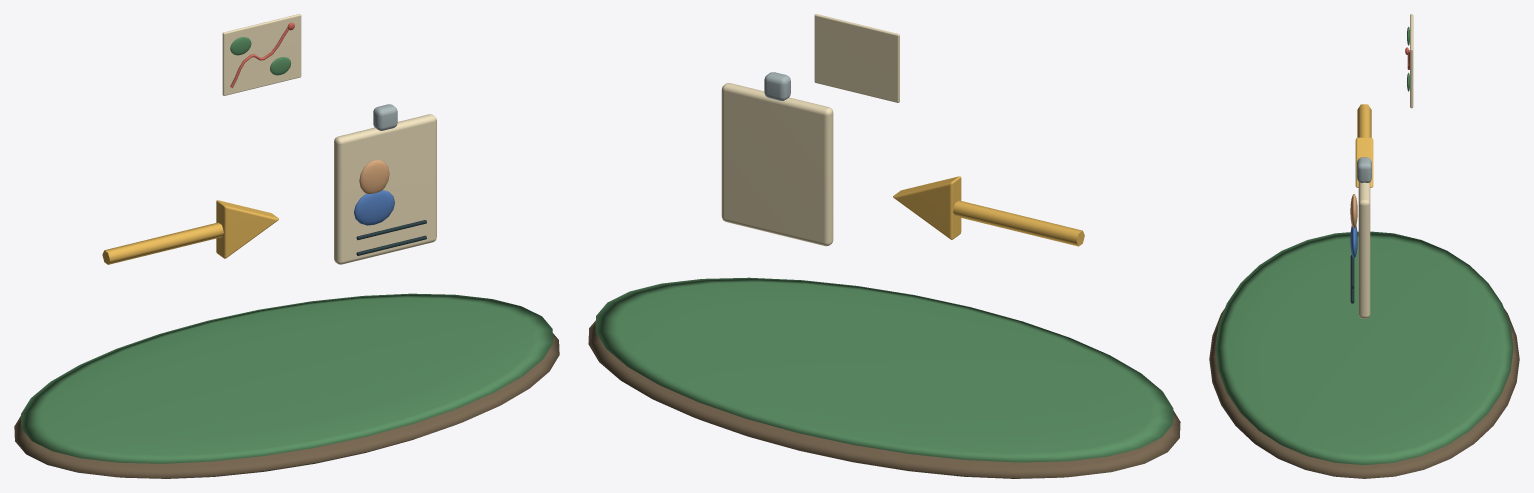
Rendered from complete-third-approach-from-self.glb.
3 views of the same model, side by side, from view 1: azimuth 30°, elevation 25°; view 2: azimuth 150°, elevation 25°; view 3: azimuth 270°, elevation 25° (orthographic). The views are drawn at different scales.
Visible parts, largest first — view 1: complete-third-approach-from-self_surface_01, complete-third-approach-from-self_surface_03, complete-third-approach-from-self_surface_00, complete-third-approach-from-self_surface_02, complete-third-approach-from-self_surface_06, complete-third-approach-from-self_surface_05, complete-third-approach-from-self_surface_07, complete-third-approach-from-self_surface_04; view 2: complete-third-approach-from-self_surface_01, complete-third-approach-from-self_surface_03, complete-third-approach-from-self_surface_00, complete-third-approach-from-self_surface_02, complete-third-approach-from-self_surface_04; view 3: complete-third-approach-from-self_surface_01, complete-third-approach-from-self_surface_00, complete-third-approach-from-self_surface_03, complete-third-approach-from-self_surface_02, complete-third-approach-from-self_surface_04.
Boxes of the visible parts, x1,y1,x2,y2 form: complete-third-approach-from-self_surface_01: (21,37,552,463); complete-third-approach-from-self_surface_03: (222,14,436,264); complete-third-approach-from-self_surface_00: (14,333,559,478); complete-third-approach-from-self_surface_02: (102,200,278,264); complete-third-approach-from-self_surface_06: (354,190,394,225); complete-third-approach-from-self_surface_05: (359,160,389,193); complete-third-approach-from-self_surface_07: (356,220,426,255); complete-third-approach-from-self_surface_04: (373,104,397,130); complete-third-approach-from-self_surface_01: (595,277,1173,462); complete-third-approach-from-self_surface_03: (721,14,899,246); complete-third-approach-from-self_surface_00: (588,320,1180,478); complete-third-approach-from-self_surface_02: (893,176,1084,246); complete-third-approach-from-self_surface_04: (764,72,790,100); complete-third-approach-from-self_surface_01: (1215,26,1513,464); complete-third-approach-from-self_surface_00: (1209,308,1519,478); complete-third-approach-from-self_surface_03: (1358,14,1413,318); complete-third-approach-from-self_surface_02: (1355,104,1373,187); complete-third-approach-from-self_surface_04: (1357,157,1371,182).
Bounding box in the file's own units: 4.56 × 3.04 × 2.5.
